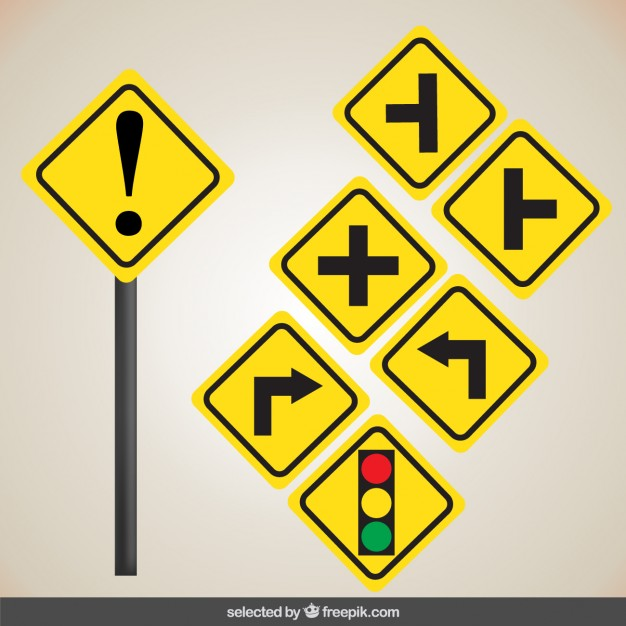left: (372, 270, 550, 457)
right: (183, 308, 371, 479)
